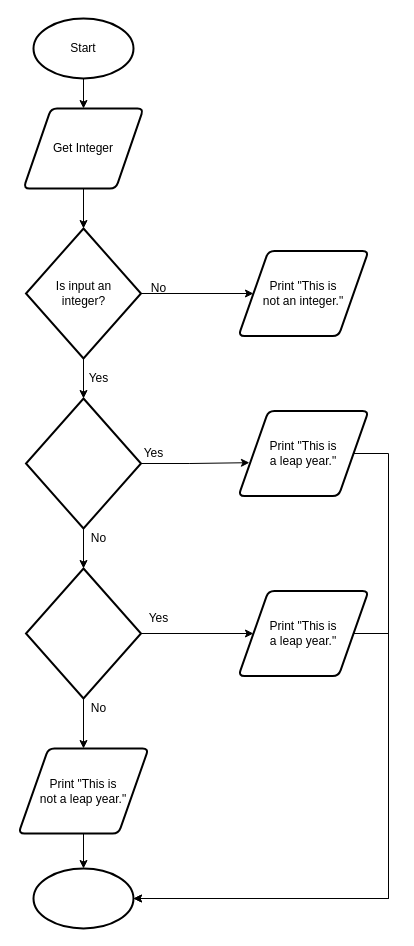
The diagram is 414 pixels wide and 946 high, and some of its shapes have lost their labels. Each missing label, with the box of its shape:
Is input a multiple of 400?: (24, 567, 142, 699)
Is input a multiple of 4?: (24, 397, 142, 529)
Stop: (32, 867, 134, 929)
